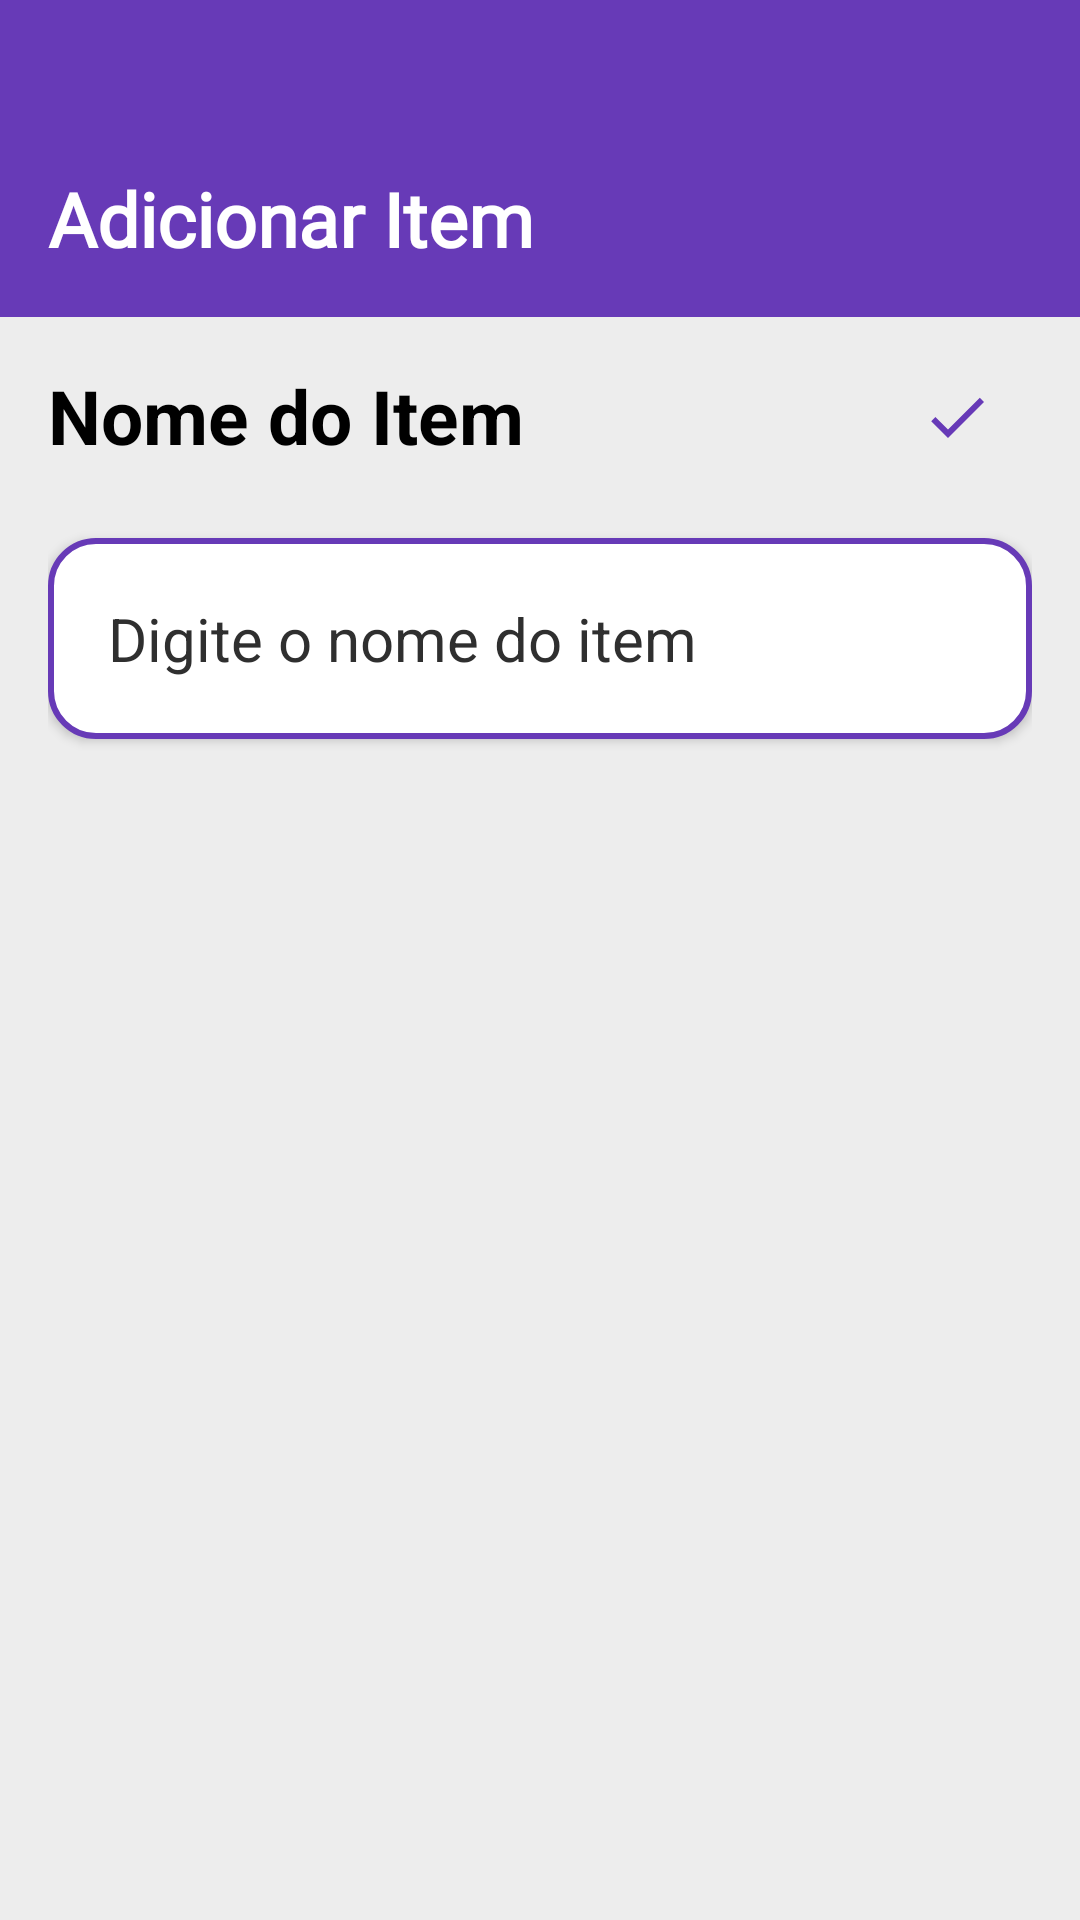

Point at icon controls on the screen. Image size 1080x1920, points as (x=x, y=y).
Salvar item: (x=957, y=418)
